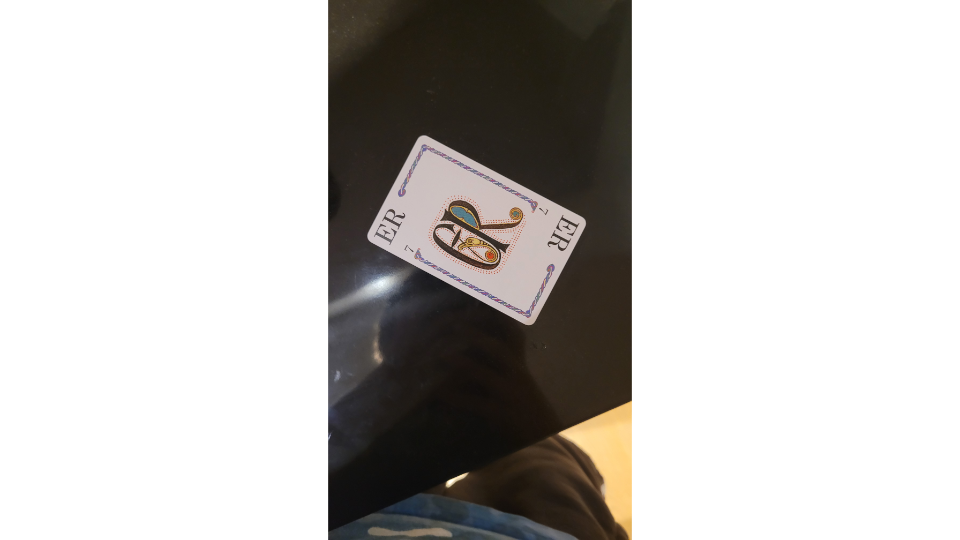ER: (362, 131, 588, 329)
